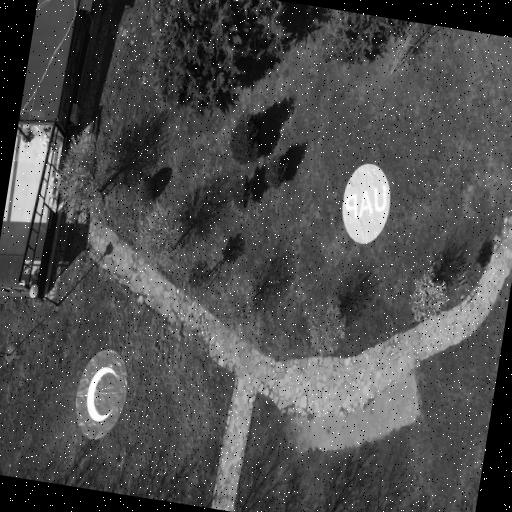UAP: (75, 349, 127, 439)
car: (342, 163, 390, 243)
